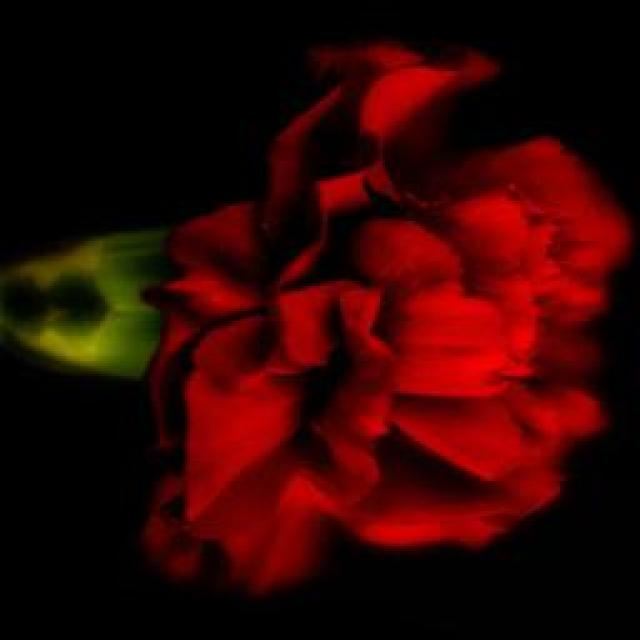carnation: (98, 20, 620, 598)
